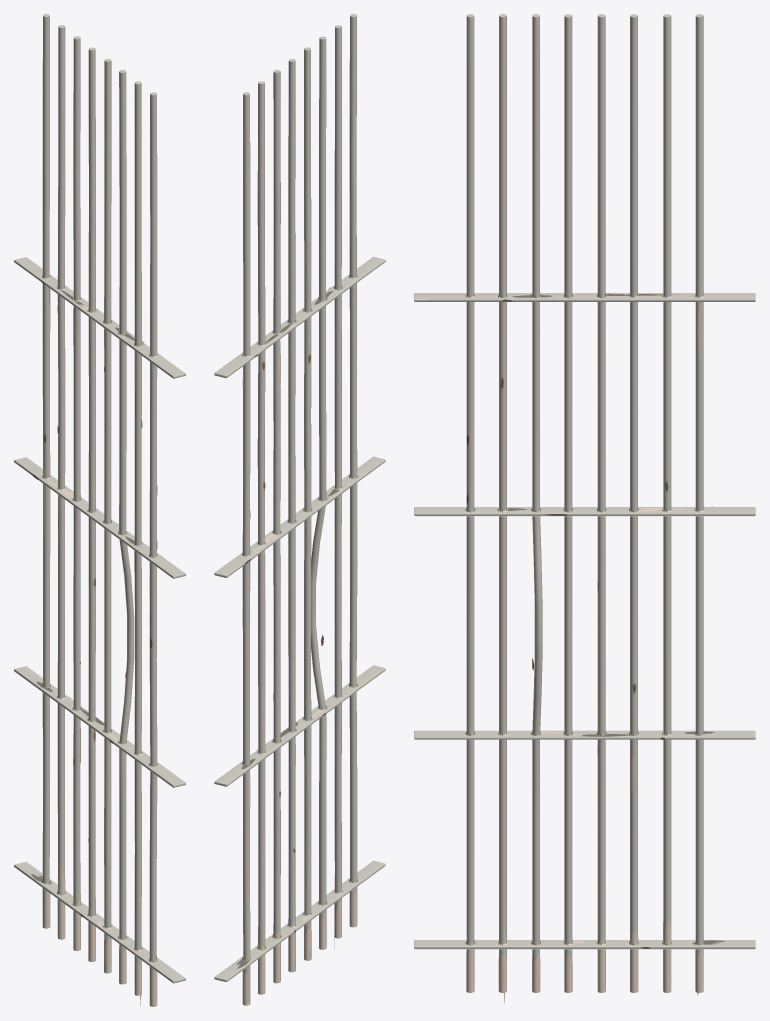
The model's file is bars_w1.glb.
3 views of the same model, side by side, from view 1: azimuth 30°, elevation 25°; view 2: azimuth 150°, elevation 25°; view 3: azimuth 270°, elevation 25° (orthographic). The views are drawn at different scales.
Visible parts, largest first — view 1: teil, teil.001, teil.004; view 2: teil, teil.001, teil.004; view 3: teil, teil.001.
Boxes of the visible parts, x1,y1,x2,y2 form: teil: (14, 14, 185, 983); teil.001: (42, 275, 157, 1006); teil.004: (42, 309, 157, 962); teil: (214, 14, 385, 1002); teil.001: (242, 275, 357, 1006); teil.004: (242, 286, 357, 960); teil: (414, 14, 755, 961); teil.001: (465, 293, 704, 1003).
Size of the model in its own units: 0.0884 by 4.16 by 1.3.
